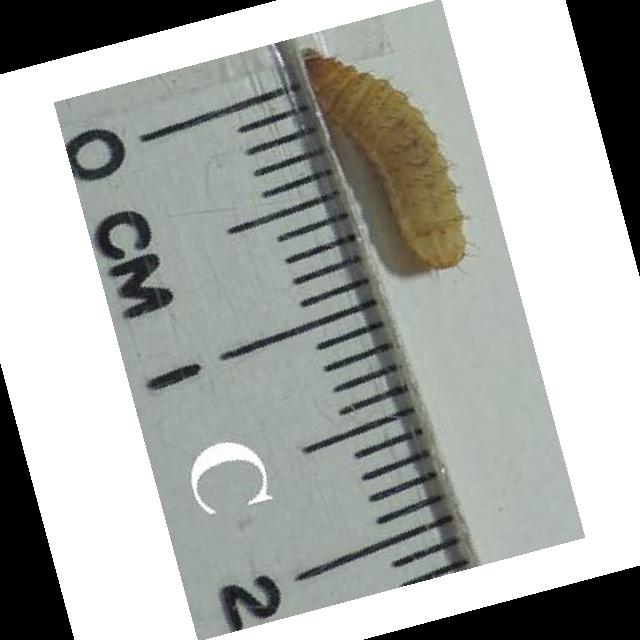Maggot: (299, 41, 469, 271)
